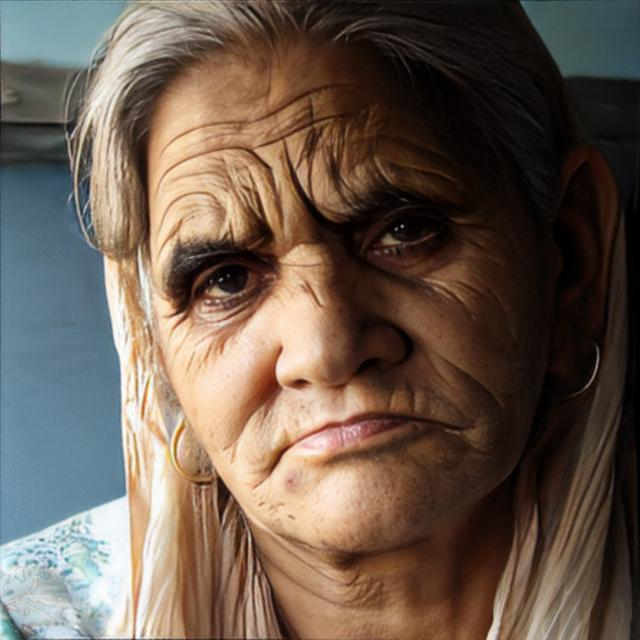anger: (150, 38, 554, 554)
